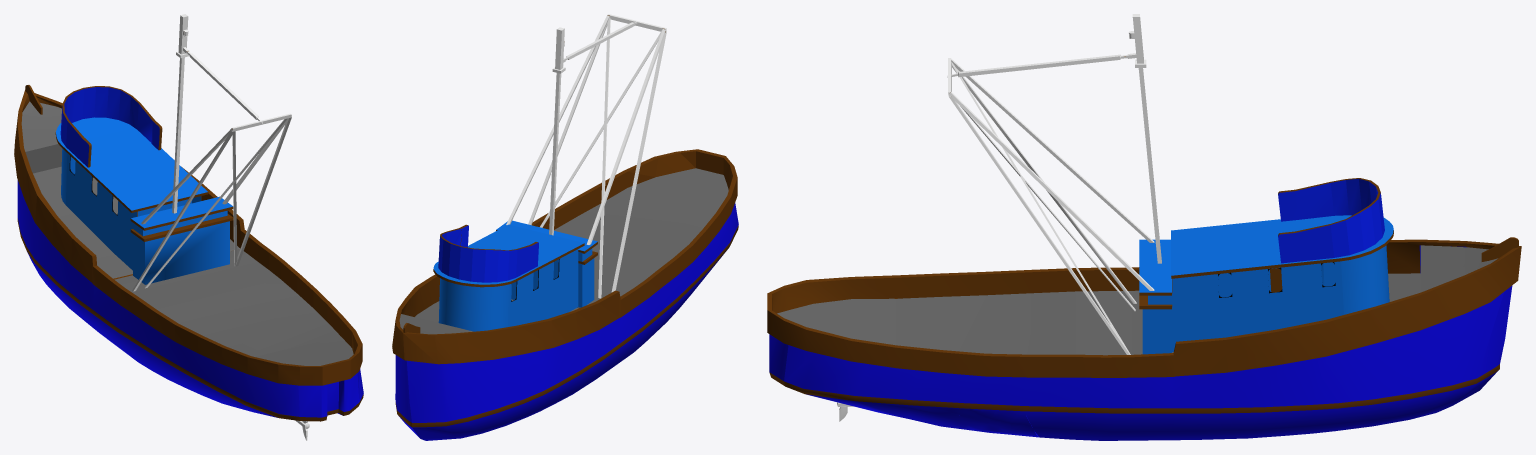
Rendered from boat.fbx.
3 renders of one model, left to right at view 1: azimuth 30°, elevation 25°; view 2: azimuth 150°, elevation 25°; view 3: azimuth 270°, elevation 25°, orthographic. The views are drawn at different scales.
Visible parts, largest first — view 1: smdimport; view 2: smdimport; view 3: smdimport.
Boxes of the visible parts, <box> form: smdimport: <box>14,14,363,440</box>; smdimport: <box>392,14,738,440</box>; smdimport: <box>767,14,1521,440</box>.
Size of the model in its own units: 7.7 by 16.22 by 27.3.
